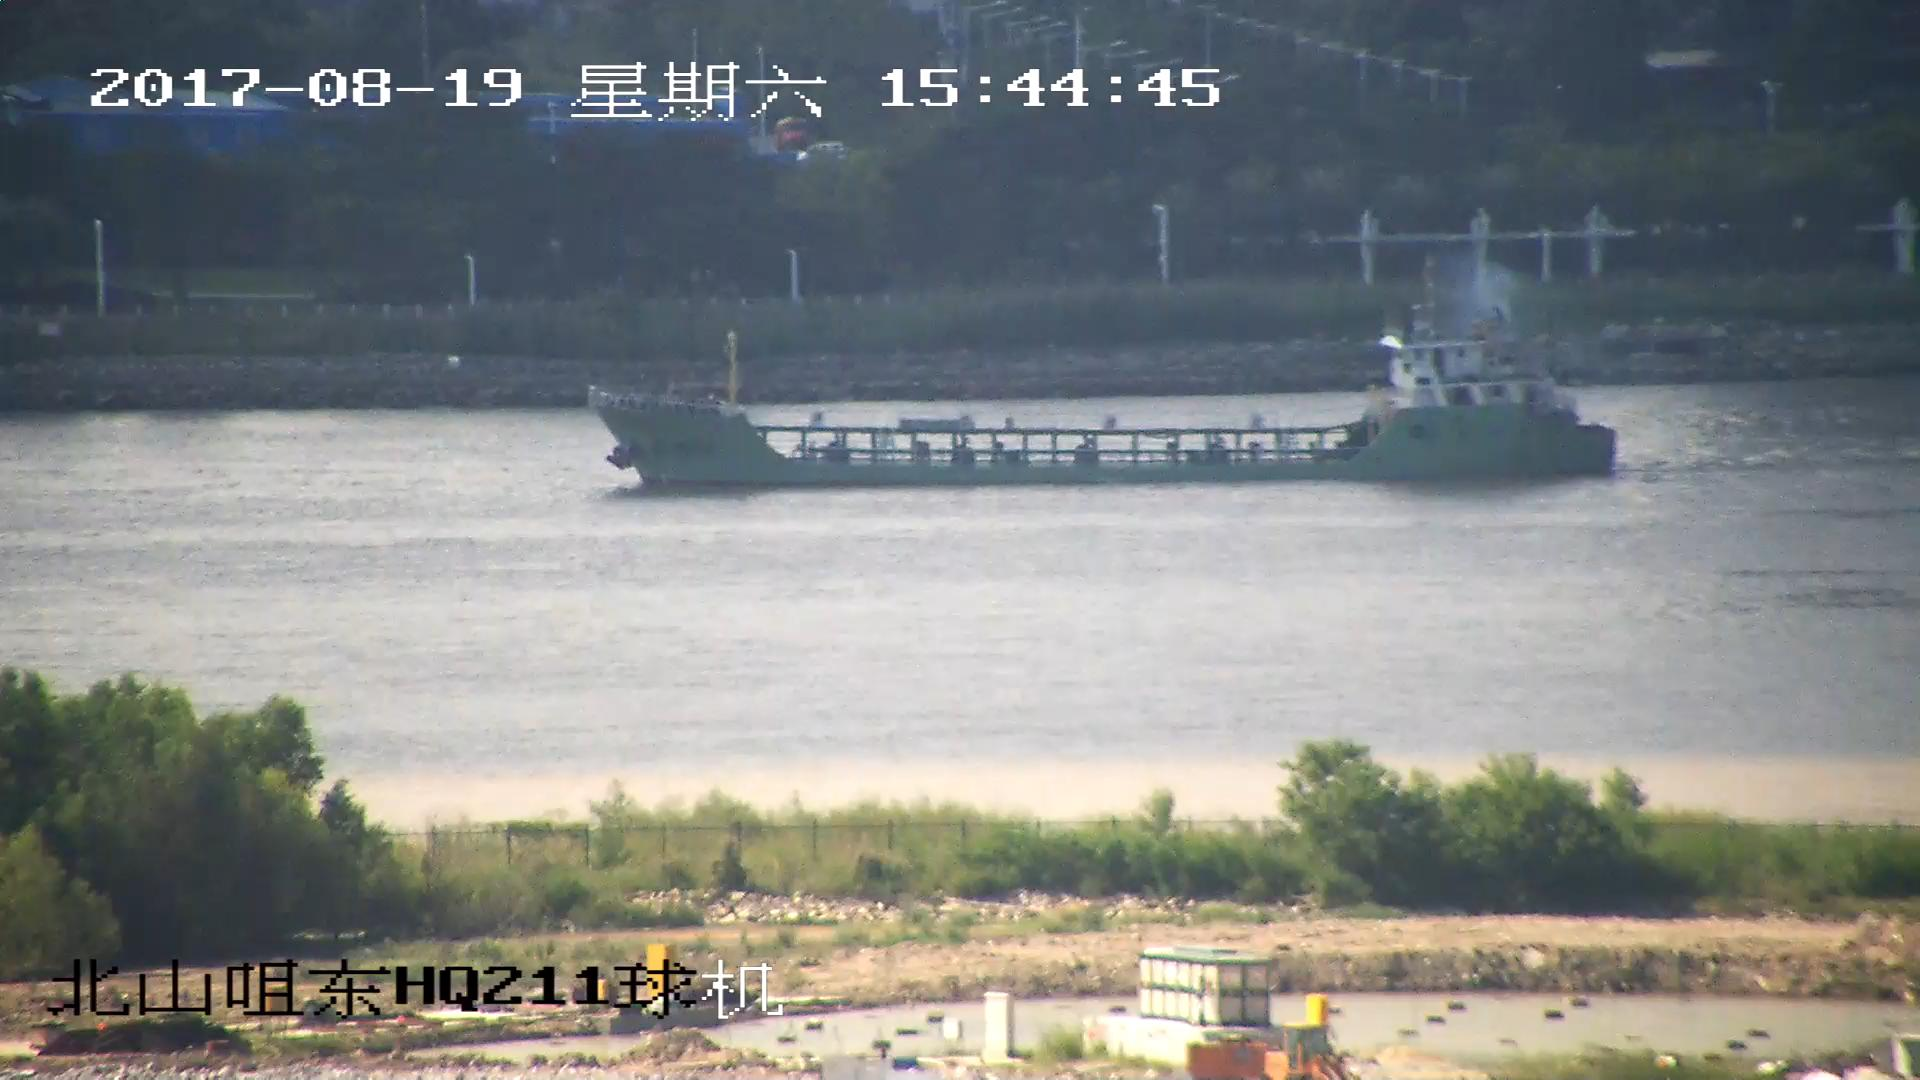general cargo ship: (583, 341, 1612, 488)
